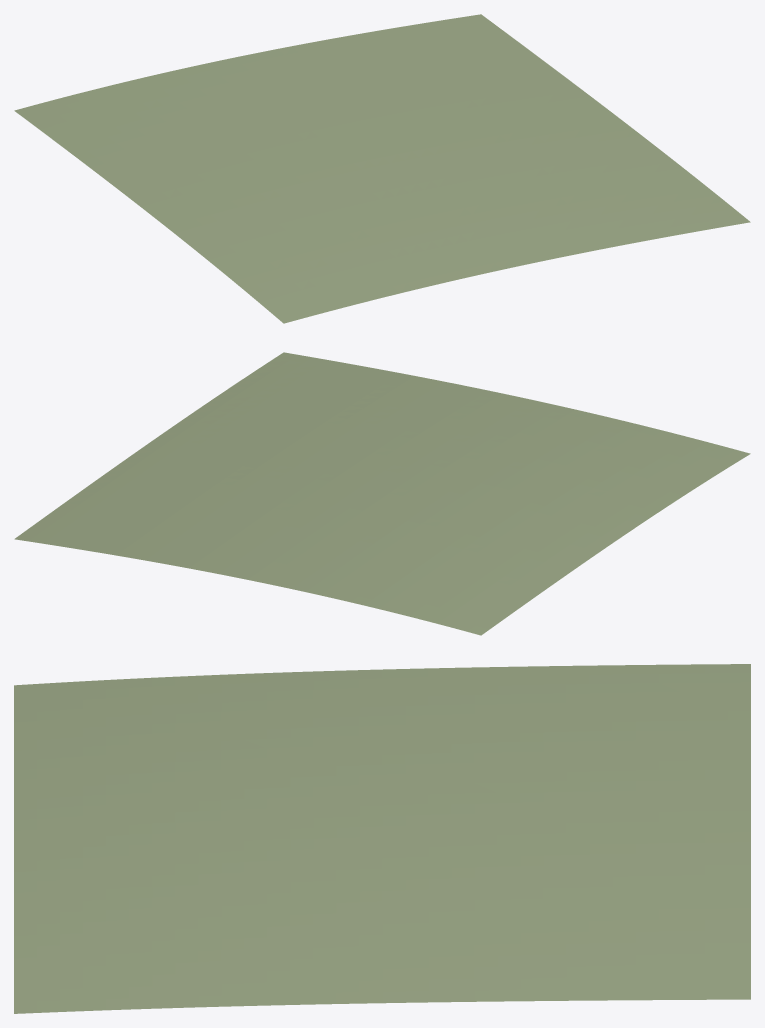
The model's file is valley-2-6.glb.
3 renders of one model, top to bottom at view 1: azimuth 30°, elevation 25°; view 2: azimuth 150°, elevation 25°; view 3: azimuth 270°, elevation 25°, orthographic. The views are drawn at different scales.
Visible parts, largest first — view 1: valley-2-6; view 2: valley-2-6; view 3: valley-2-6.
Part boxes in pixels (x1,y1,x2,y2): valley-2-6: [14, 14, 750, 323]; valley-2-6: [14, 352, 750, 635]; valley-2-6: [14, 664, 750, 1013].
Bounding box in the file's own units: 256 × 15.57 × 256.
